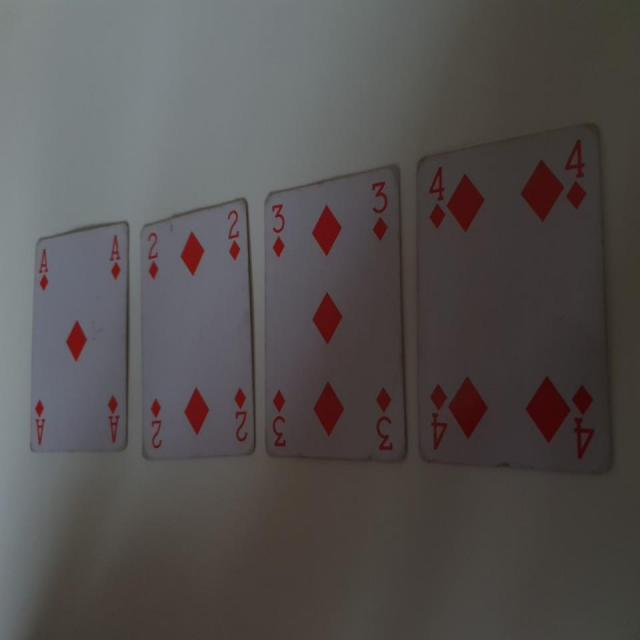2 Diamonds: (138, 192, 261, 460)
3 Diamonds: (262, 162, 411, 466)
4 Diamonds: (413, 125, 621, 481)
A Diamonds: (27, 210, 134, 464)
